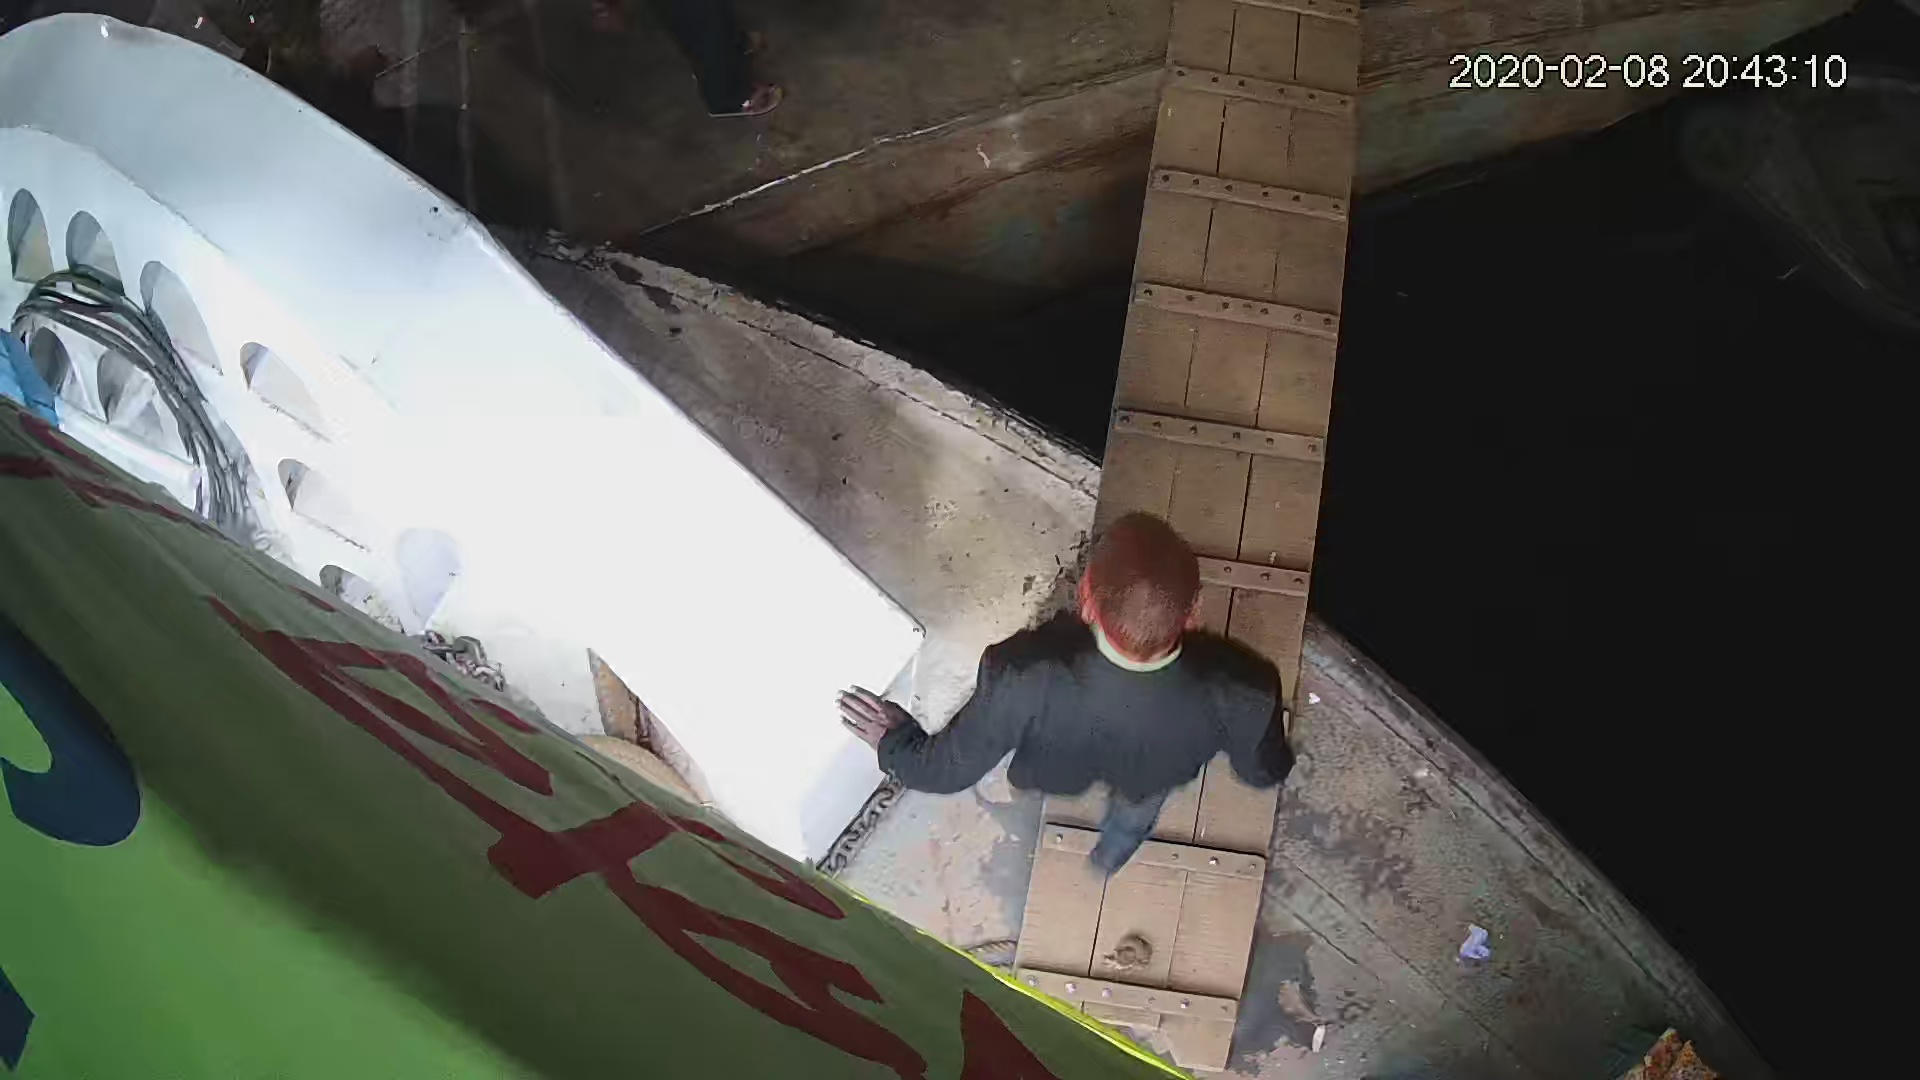person: (840, 509, 1300, 874)
